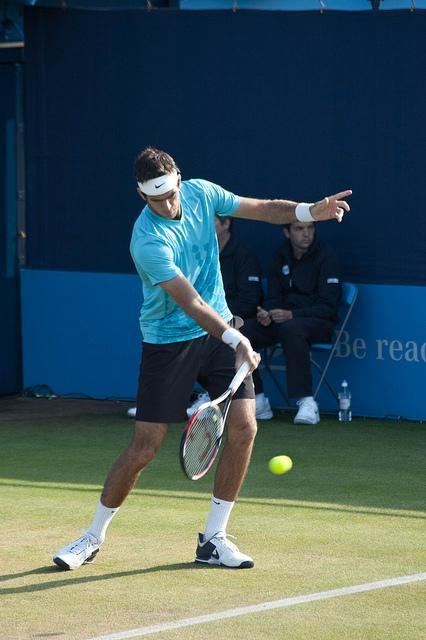person: (45, 144, 353, 571), (234, 217, 342, 427)
